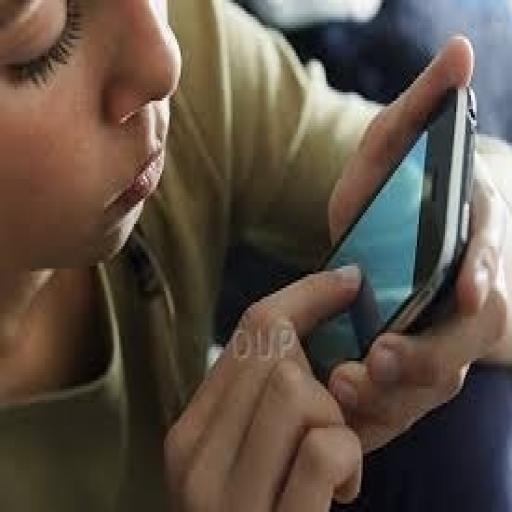texting: (0, 0, 508, 509)
